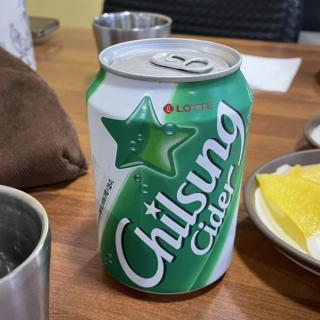chilsung: (85, 36, 256, 297)
